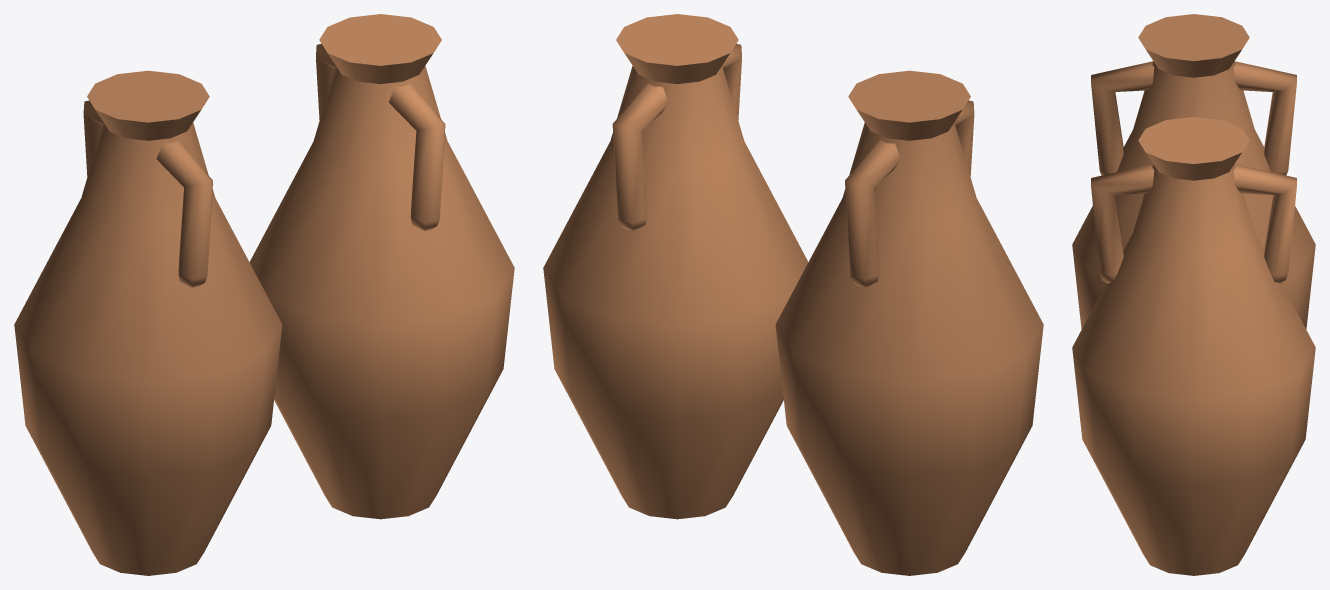
File: amphorae_pair.fbx
The picture shows the model from 3 angles, left to right: view 1: azimuth 30°, elevation 25°; view 2: azimuth 150°, elevation 25°; view 3: azimuth 270°, elevation 25°; orthographic projection. The views are drawn at different scales.
Visible parts, largest first — view 1: amphorae_pair; view 2: amphorae_pair; view 3: amphorae_pair.
Boxes of the visible parts, x1,y1,x2,y2 form: amphorae_pair: (14,14,514,575); amphorae_pair: (543,14,1043,575); amphorae_pair: (1072,14,1315,575).
Size of the model in its own units: 0.0847 by 0.0794 by 0.0423.
